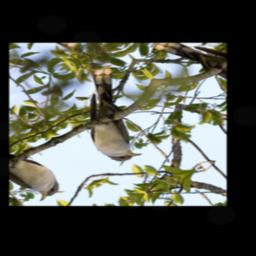Cuckoo: (43, 64, 178, 167)
